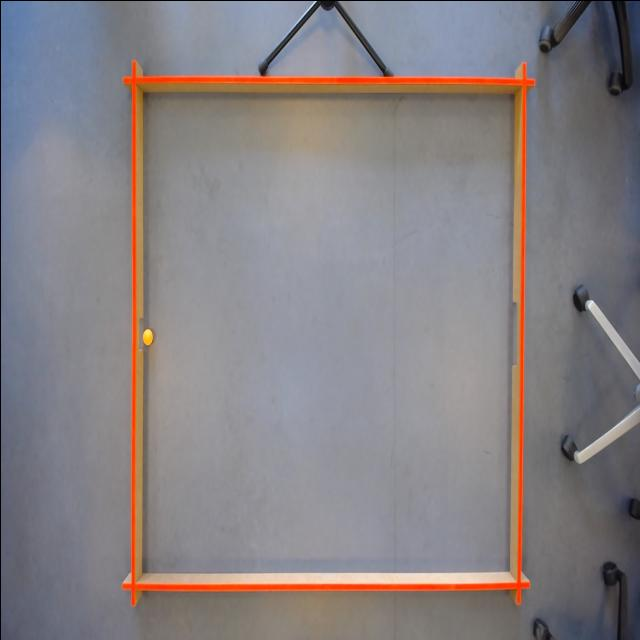orange_ball: (142, 328, 153, 348)
